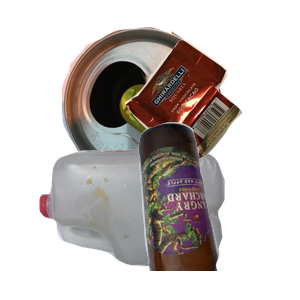glass: (136, 120, 300, 300)
metal: (59, 10, 273, 189)
plastic: (37, 147, 254, 300)
trash: (123, 37, 300, 192)
